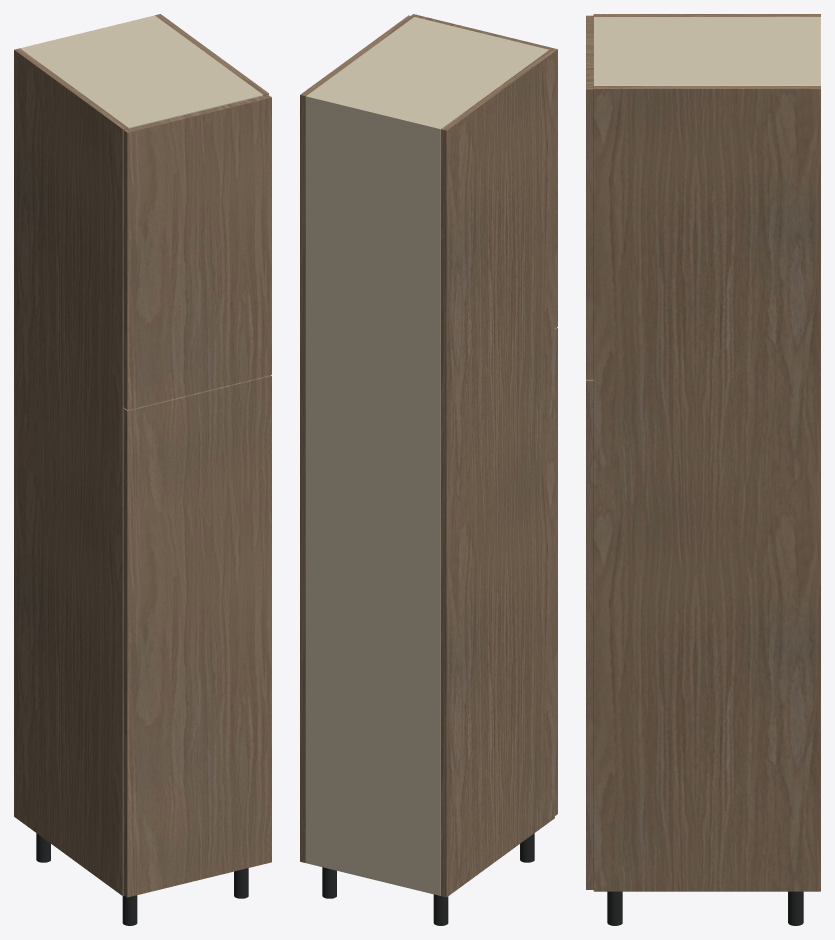
Rendered from oppein-ply-mnw-pc1890.glb.
The picture shows the model from 3 angles, left to right: view 1: azimuth 30°, elevation 25°; view 2: azimuth 150°, elevation 25°; view 3: azimuth 270°, elevation 25°; orthographic projection. The views are drawn at different scales.
Visible parts, largest first — view 1: Cabinet side, Door, Door.001, Cabinet top, Cabinet side.001; view 2: Cabinet back, Cabinet side, Cabinet top, Cabinet side.001, Door, Door.001; view 3: Cabinet side.001, Cabinet top, Door, Door.001, Cabinet side, Adjustable foot.002, Adjustable foot.003.
Boxes of the visible parts, <box> form: Cabinet side: <box>14,48,128,895</box>; Door: <box>123,375,271,897</box>; Door.001: <box>123,95,271,409</box>; Cabinet top: <box>22,17,263,128</box>; Cabinet side.001: <box>155,14,268,95</box>; Cabinet back: <box>306,94,442,895</box>; Cabinet side: <box>441,50,554,897</box>; Cabinet top: <box>306,17,548,133</box>; Cabinet side.001: <box>300,15,413,862</box>; Door: <box>555,327,557,815</box>; Door.001: <box>411,14,557,328</box>; Cabinet side.001: <box>593,86,820,891</box>; Cabinet top: <box>593,17,816,85</box>; Door: <box>586,379,593,889</box>; Door.001: <box>586,15,593,379</box>; Cabinet side: <box>593,14,820,16</box>; Adjustable foot.002: <box>788,891,803,925</box>; Adjustable foot.003: <box>607,891,622,925</box>.
Size of the model in its own units: 0.4572 by 2.4 by 0.6064.
3 materials, 1 textured.
